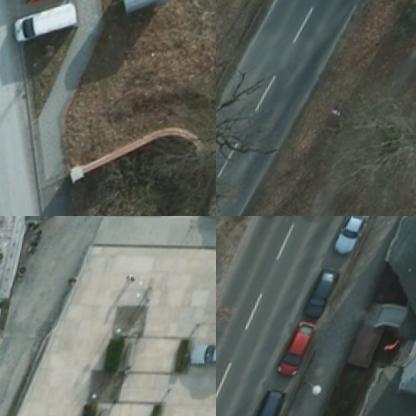car: (280, 320, 321, 379), (308, 265, 338, 321), (333, 216, 369, 259), (246, 386, 293, 415), (188, 339, 215, 374)
van: (11, 0, 84, 44)
